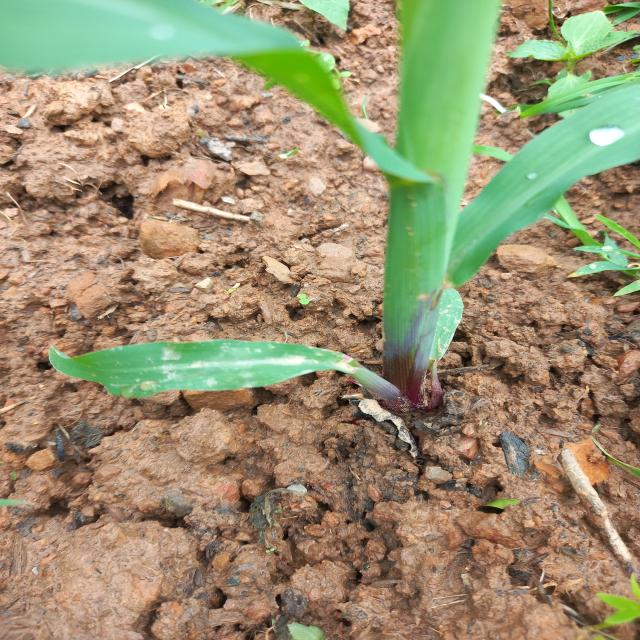maize: (2, 0, 628, 416)
